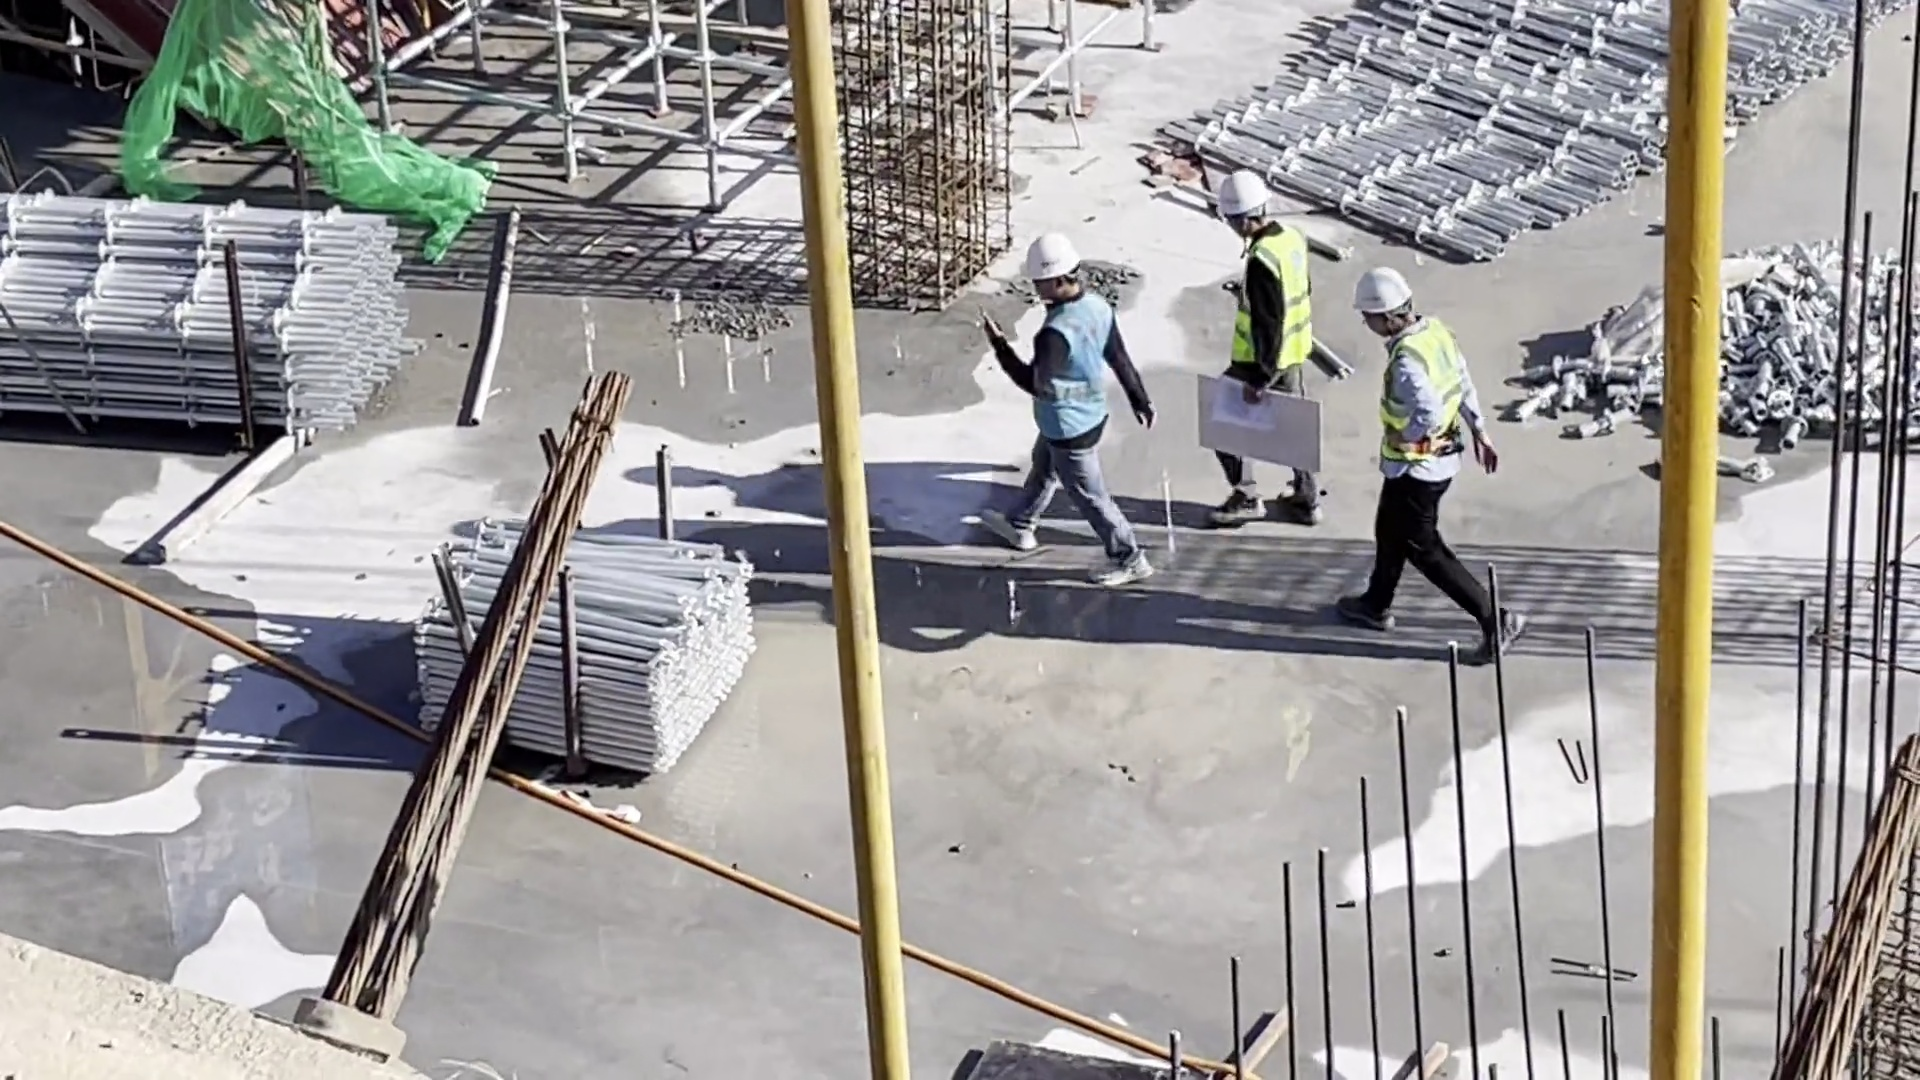helmet: (1353, 264, 1414, 314), (1019, 232, 1083, 280), (1217, 170, 1273, 216)
person: (1334, 261, 1534, 671), (974, 227, 1162, 587), (1199, 165, 1333, 539)
scaffold: (1, 194, 409, 434), (411, 519, 757, 775)
vest: (1378, 318, 1466, 464), (1231, 223, 1314, 369), (1032, 294, 1111, 441)
